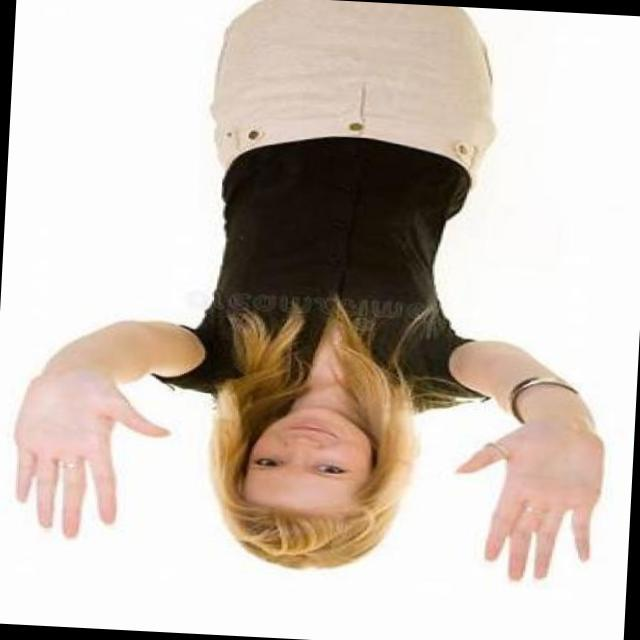not-gloved: (448, 382, 621, 598), (8, 351, 170, 555)
